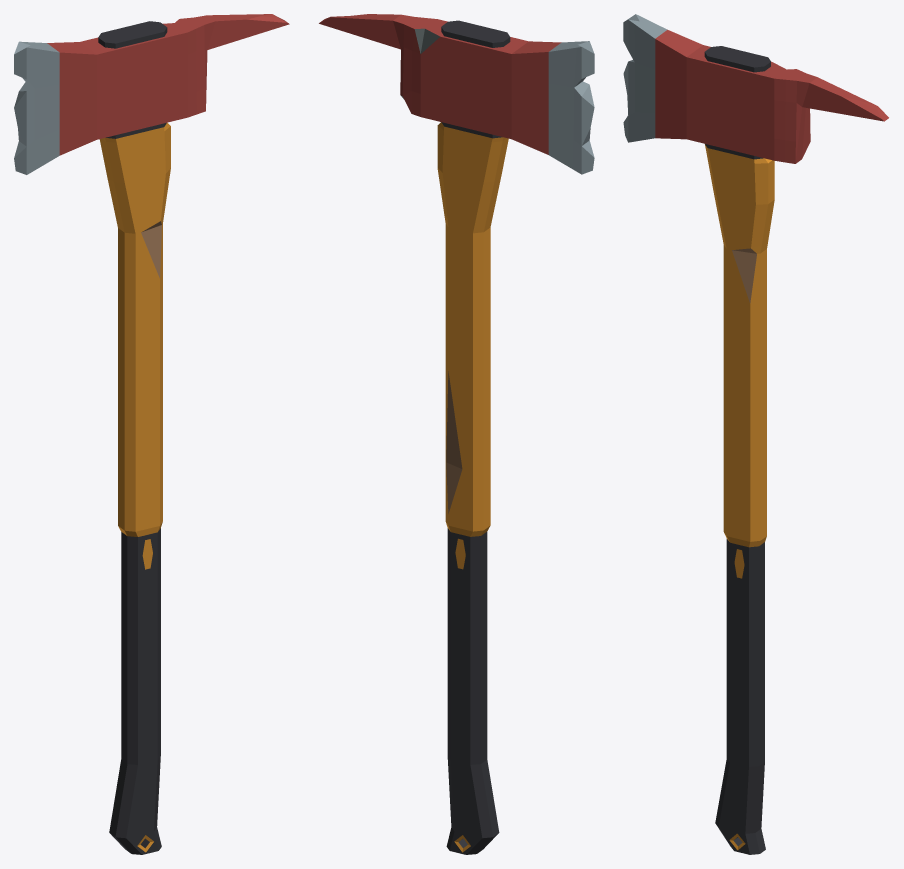
Rendered from SM_Fire_Axe.gltf.
3 views of the same model, side by side, from view 1: azimuth 30°, elevation 25°; view 2: azimuth 150°, elevation 25°; view 3: azimuth 330°, elevation 25° (orthographic). The views are drawn at different scales.
Parts seen in each view (by area): view 1: SM_Fire_Axe; view 2: SM_Fire_Axe; view 3: SM_Fire_Axe.
Boxes of the visible parts, bbox=[...] form: SM_Fire_Axe: bbox=[14, 14, 289, 854]; SM_Fire_Axe: bbox=[319, 14, 594, 854]; SM_Fire_Axe: bbox=[623, 14, 888, 854].
Bounding box in the file's own units: 0.3666 × 1.07 × 0.0402.
1 material, 1 textured.
